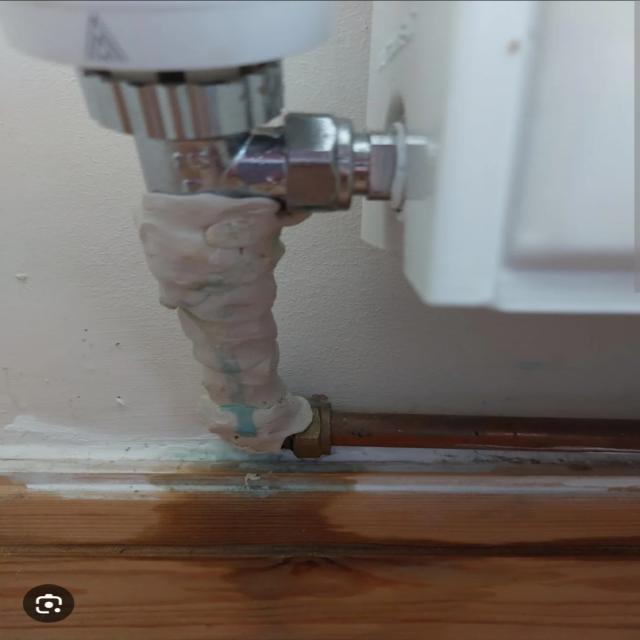leaking_damage_on_wood: (126, 425, 420, 612)
plaster_coverring_to_stop_leaking: (105, 188, 349, 424)
radiator_conner: (359, 1, 640, 322)
